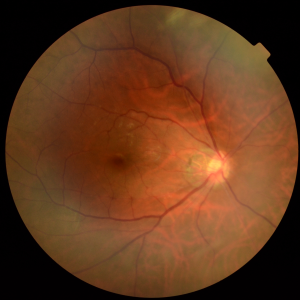retina_disease: (87, 107, 270, 215)
